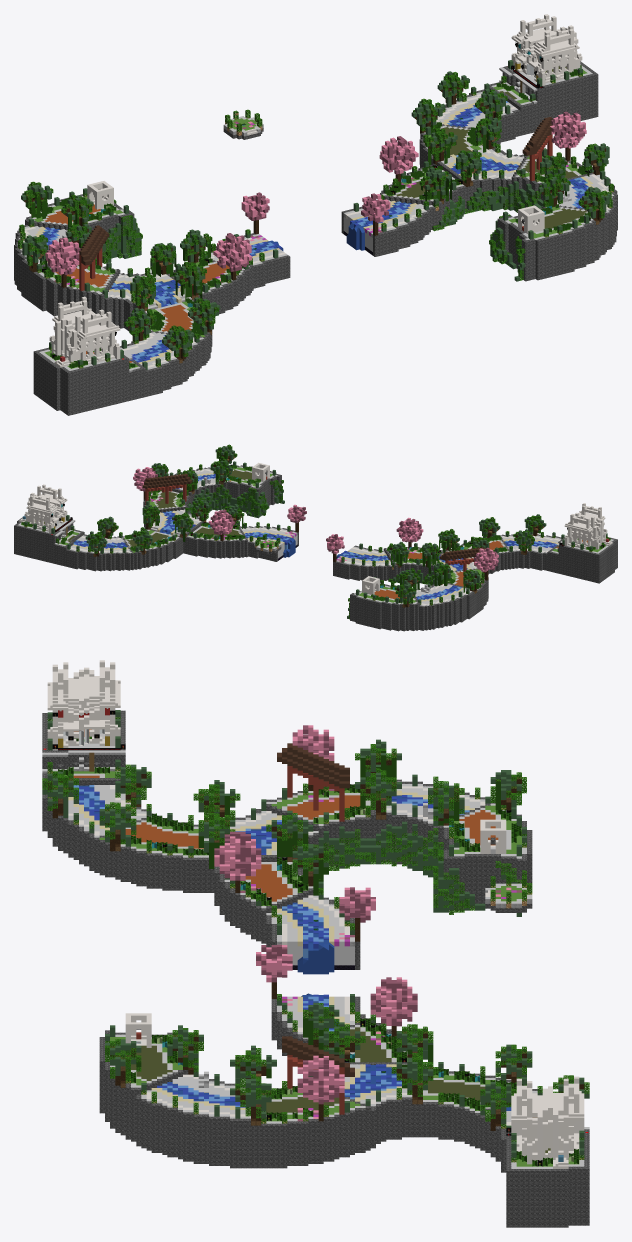
The model's file is minecraft.obj.
The picture shows the model from 3 angles, top to bottom: view 1: azimuth 30°, elevation 25°; view 2: azimuth 150°, elevation 25°; view 3: azimuth 270°, elevation 25°; orthographic projection. The views are drawn at different scales.
Bounding box in the file's own units: 209 × 25 × 105.
